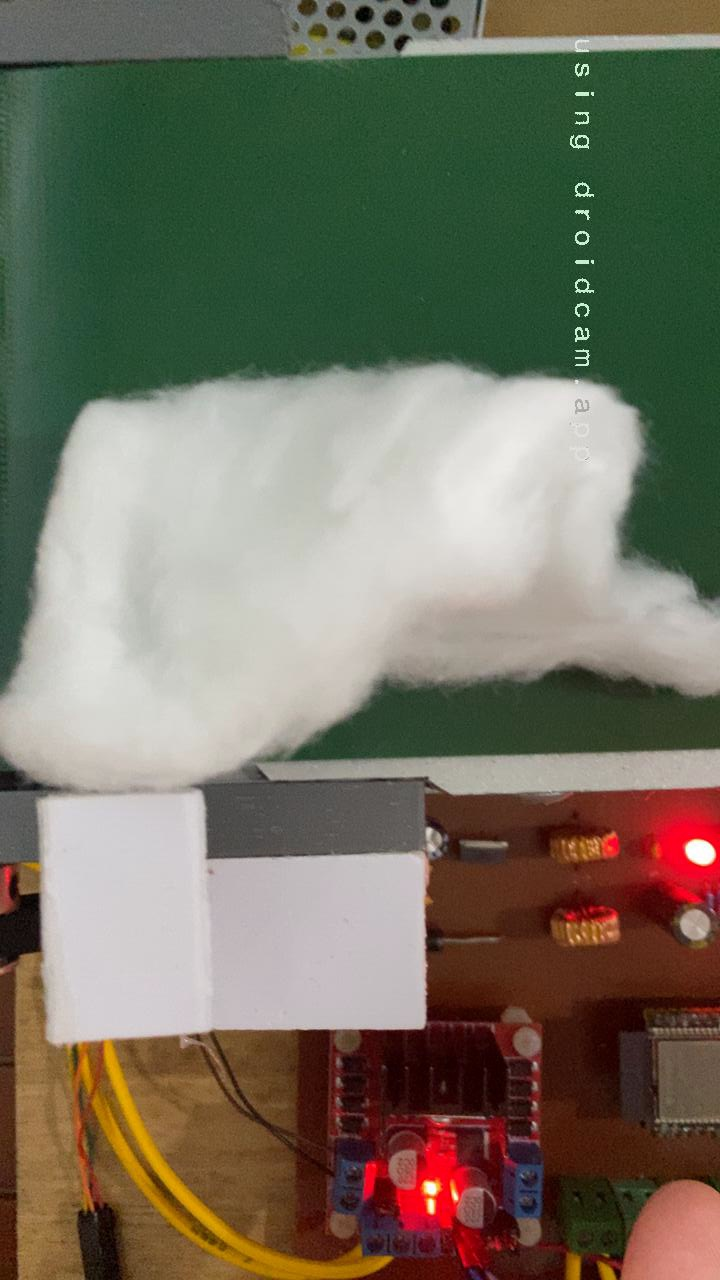cotton: (0, 356, 720, 751)
